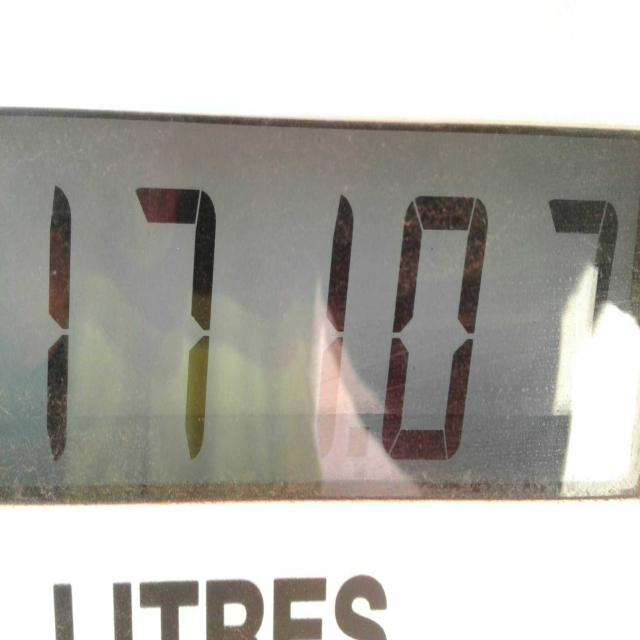.: (340, 420, 378, 481)
0: (378, 199, 486, 462)
1: (37, 185, 93, 487), (306, 196, 355, 469)
7: (128, 178, 216, 463), (546, 193, 621, 452)
